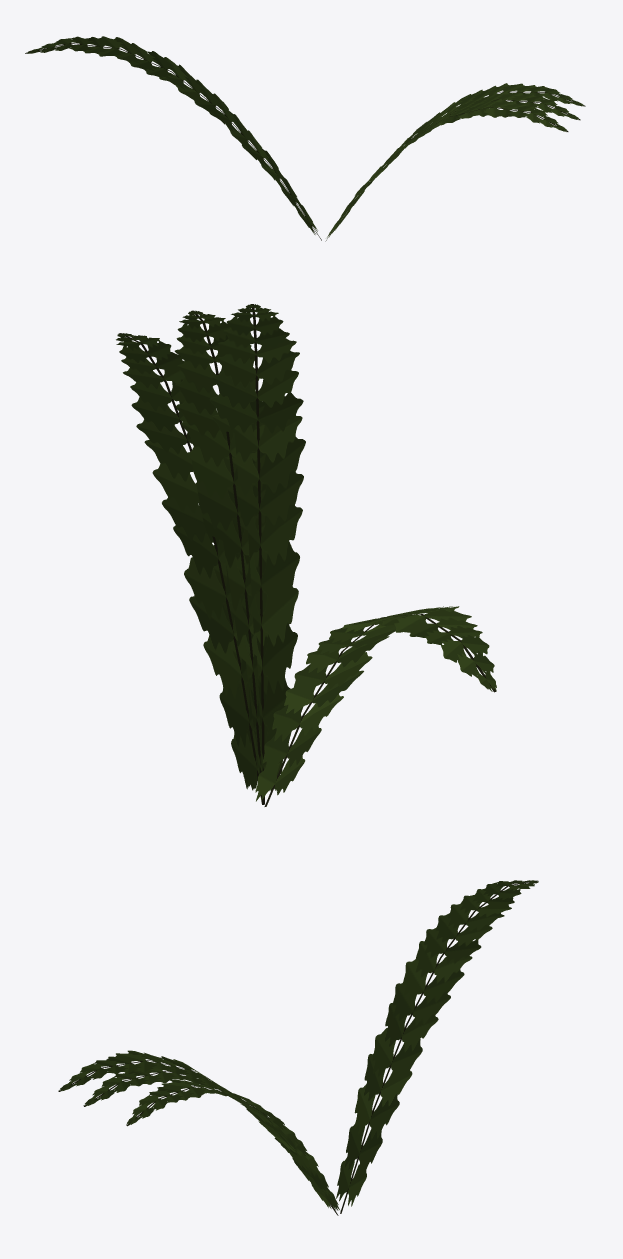
The model's file is fern_2_burnt3.glb.
The picture shows the model from 3 angles, top to bottom: view 1: azimuth 30°, elevation 25°; view 2: azimuth 150°, elevation 25°; view 3: azimuth 270°, elevation 25°; orthographic projection. The views are drawn at different scales.
Parts seen in each view (by area): view 1: fern_2_burnt3; view 2: fern_2_burnt3; view 3: fern_2_burnt3.
Part boxes in pixels (x1,y1,x2,y2): fern_2_burnt3: (25,36,585,241); fern_2_burnt3: (116,304,496,806); fern_2_burnt3: (58,880,538,1215).
Bounding box in the file's own units: 1.33 × 0.5279 × 1.25.
Materials: 1 (1 with a texture image).
